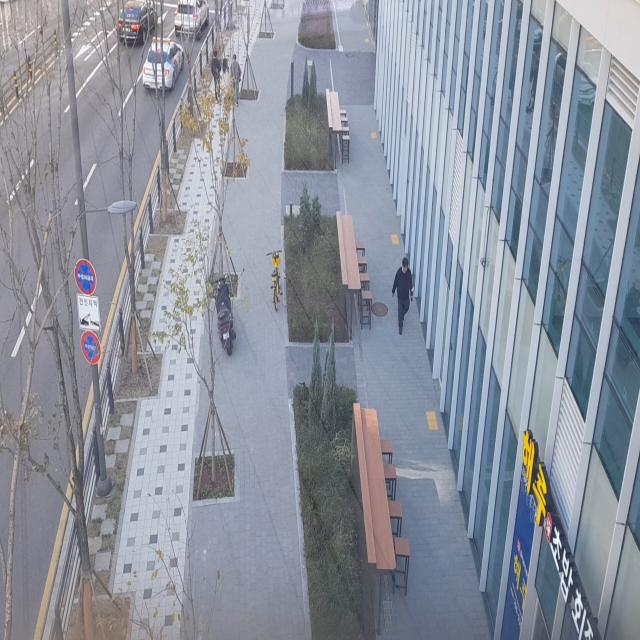Car: (140, 33, 186, 99), (119, 0, 164, 47), (171, 0, 214, 42)
